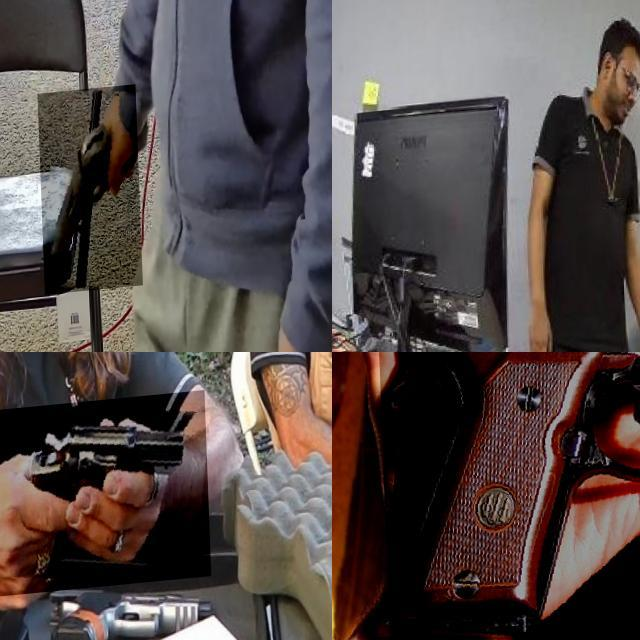gun-knife-thesis - v11 Yolov5 augmented: (374, 352, 640, 640), (0, 399, 206, 602), (35, 90, 138, 300), (29, 571, 228, 640)
